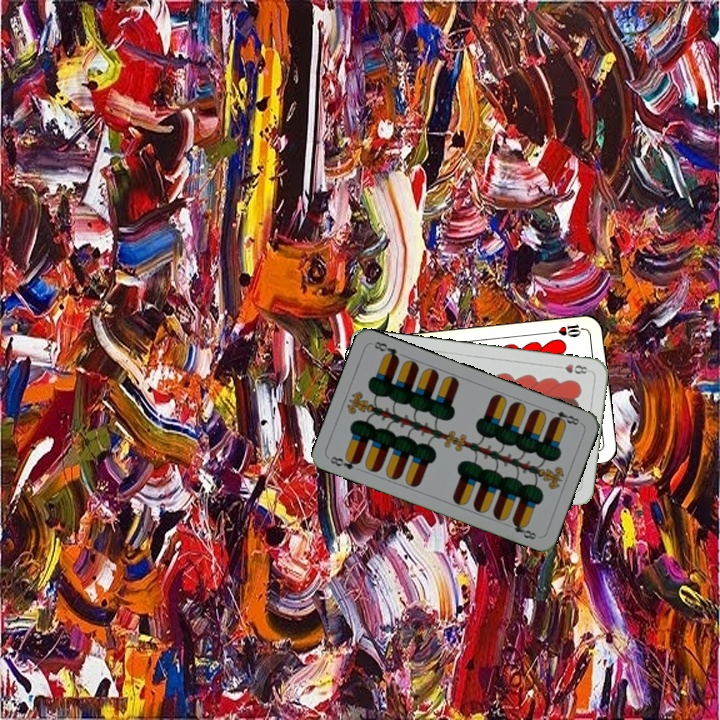E8: (545, 406, 582, 428), (326, 452, 362, 472)
H10: (547, 320, 588, 340)
H8: (552, 360, 592, 377)
